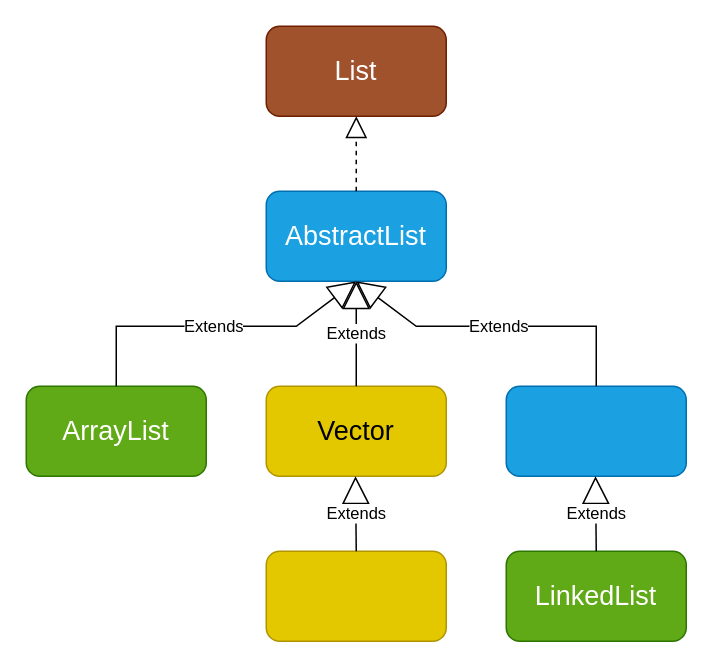
Some shapes in this 713 by 668 pixel diagram are drawn without their labels. The box of each missing label's shape, as (x1, y1, x2, y2) in pixels:
AbstractSequentialList: (505, 385, 686, 476)
Stack: (265, 550, 446, 641)
